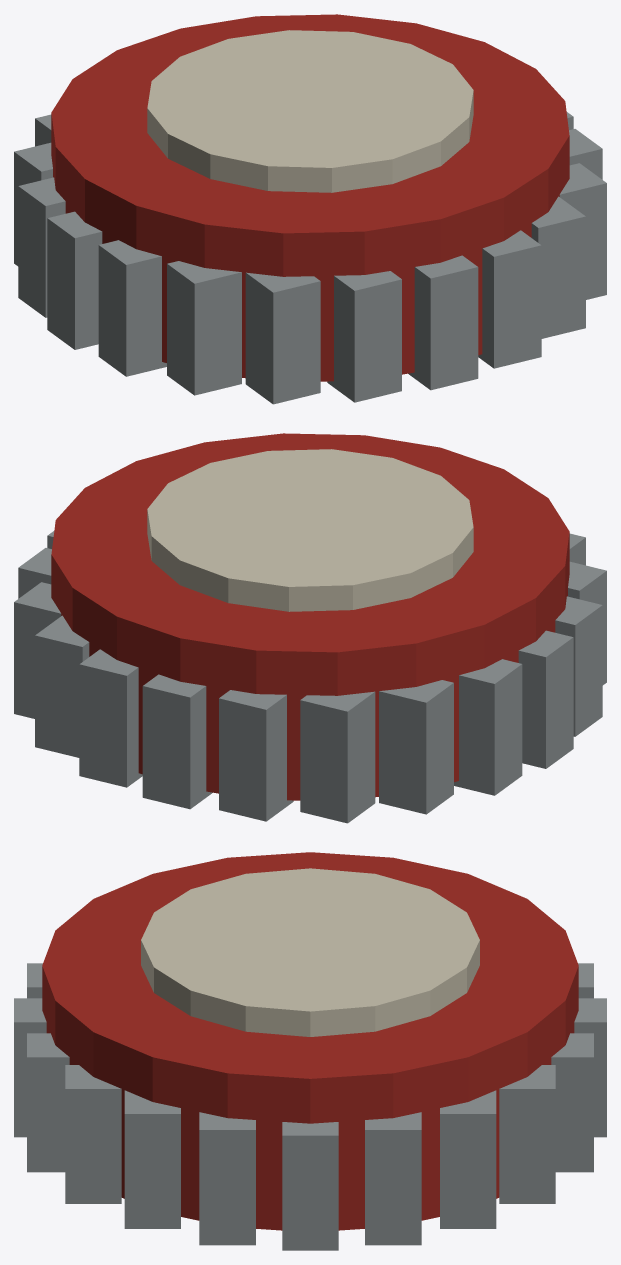
Rendered from loot_bottle_cap.glb.
3 views of the same model, one above another, from view 1: azimuth 30°, elevation 25°; view 2: azimuth 150°, elevation 25°; view 3: azimuth 270°, elevation 25° (orthographic). The views are drawn at different scales.
Visible parts, largest first — view 1: loot_bottle_cap; view 2: loot_bottle_cap; view 3: loot_bottle_cap.
Part boxes in pixels (left/top/right/bottom): loot_bottle_cap: left=14, top=14, right=606, bottom=404; loot_bottle_cap: left=14, top=433, right=606, bottom=823; loot_bottle_cap: left=14, top=852, right=606, bottom=1250.
Size of the model in its own units: 0.042 by 0.0145 by 0.042.
